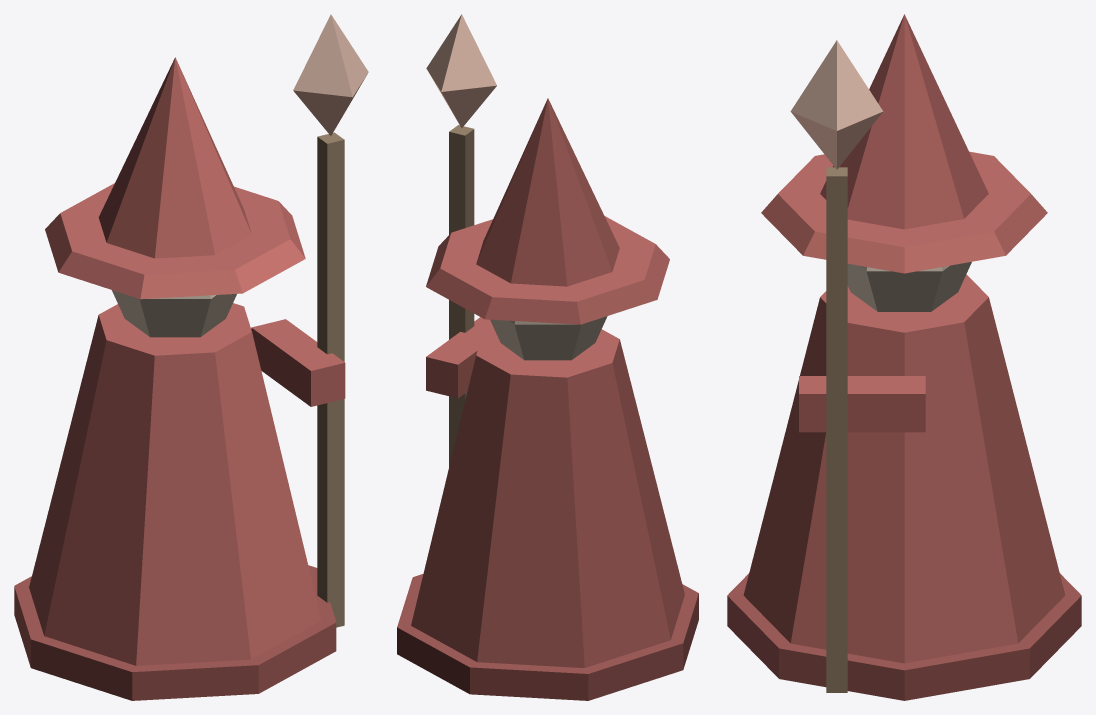
File: minion_ranged_red.glb
The picture shows the model from 3 angles, left to right: view 1: azimuth 30°, elevation 25°; view 2: azimuth 150°, elevation 25°; view 3: azimuth 270°, elevation 25°; orthographic projection. The views are drawn at different scales.
Size of the model in its own units: 0.89 by 1.7 by 0.84.
